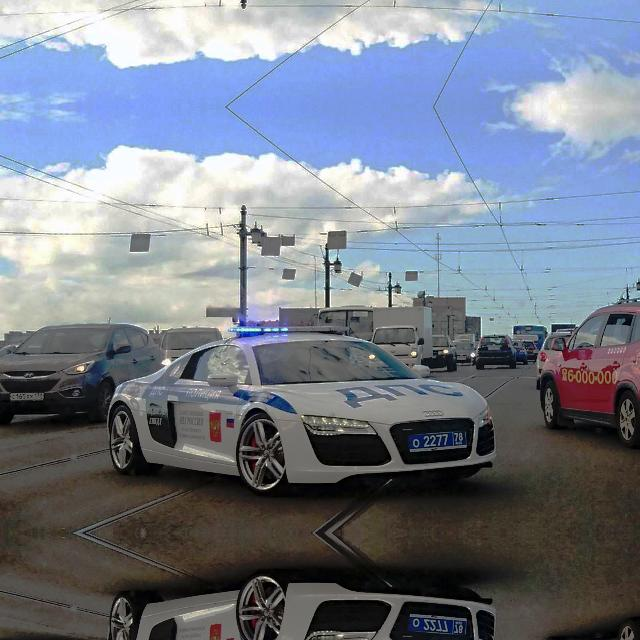citizen: (8, 385, 46, 405)
police: (404, 608, 474, 640), (404, 426, 474, 456)
